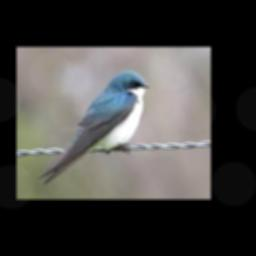Swallow: (36, 70, 151, 183)
